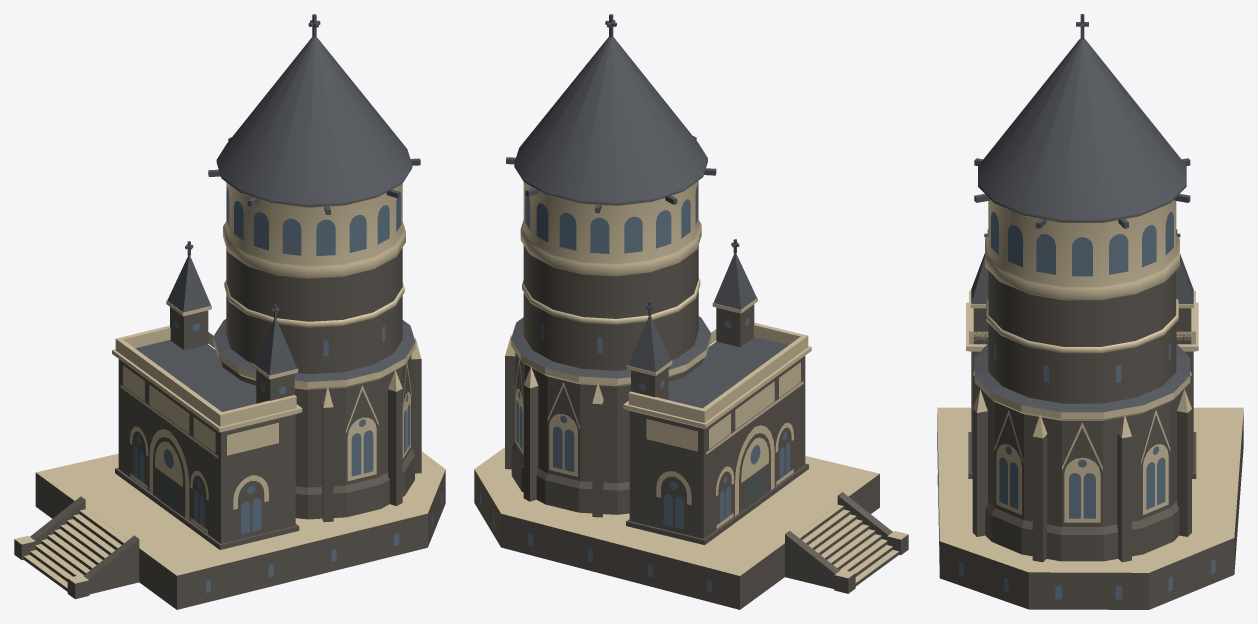
File: cle-garfield-memorial.glb
The picture shows the model from 3 angles, left to right: view 1: azimuth 30°, elevation 25°; view 2: azimuth 150°, elevation 25°; view 3: azimuth 270°, elevation 25°; orthographic projection. The views are drawn at different scales.
Visible parts, largest first — view 1: James A. Garfield Memorial; view 2: James A. Garfield Memorial; view 3: James A. Garfield Memorial.
Boxes of the visible parts, x1,y1,x2,y2 form: James A. Garfield Memorial: (14, 14, 445, 609); James A. Garfield Memorial: (474, 14, 908, 609); James A. Garfield Memorial: (937, 14, 1243, 609).
Size of the model in its own units: 40.42 by 50.8 by 26.22.
